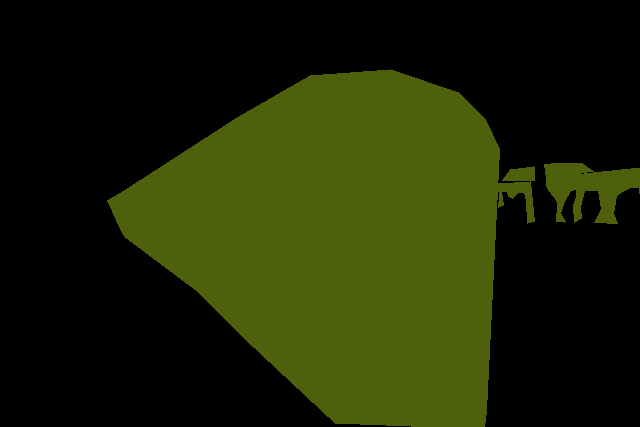Train: (107, 69, 499, 427), (498, 167, 640, 224), (502, 163, 594, 180)
